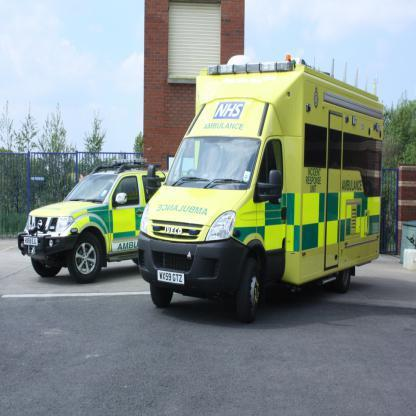Ambulance - v1 Ambulance last generate: (135, 53, 384, 321), (16, 162, 172, 282)
